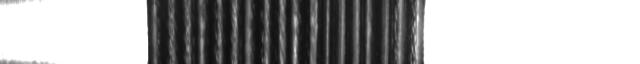Couter: (147, 0, 165, 64), (195, 0, 211, 64), (227, 0, 243, 64), (274, 0, 290, 64), (290, 0, 306, 64), (308, 0, 324, 64), (412, 0, 428, 64), (181, 0, 195, 64), (212, 0, 226, 64), (244, 0, 258, 64), (260, 0, 274, 64), (325, 0, 339, 64), (339, 0, 353, 64), (368, 0, 382, 64), (167, 0, 180, 64), (354, 0, 366, 64), (384, 0, 396, 64), (398, 0, 410, 64)
